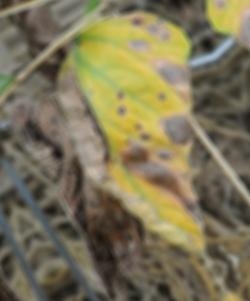Tomato Early blight leaf: (0, 0, 250, 299)
